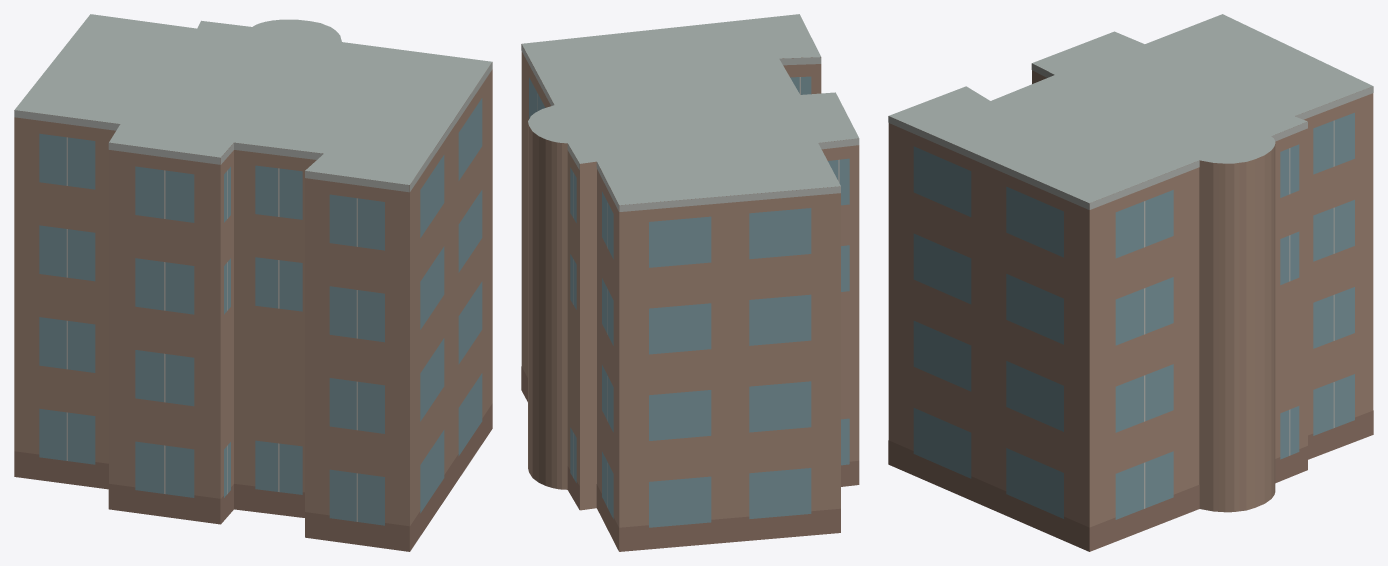
Rendered from survey-upis-32813548.glb.
3 renders of one model, left to right at view 1: azimuth 30°, elevation 25°; view 2: azimuth 150°, elevation 25°; view 3: azimuth 270°, elevation 25°, orthographic. The views are drawn at different scales.
Parts seen in each view (by area): view 1: survey-upis-32813548.tmp; view 2: survey-upis-32813548.tmp; view 3: survey-upis-32813548.tmp.
Part boxes in pixels (x1,y1,x2,y2): survey-upis-32813548.tmp: [14, 14, 492, 551]; survey-upis-32813548.tmp: [521, 14, 859, 551]; survey-upis-32813548.tmp: [888, 14, 1373, 551].
Bounding box in the file's own units: 14.33 × 12.3 × 15.52.
